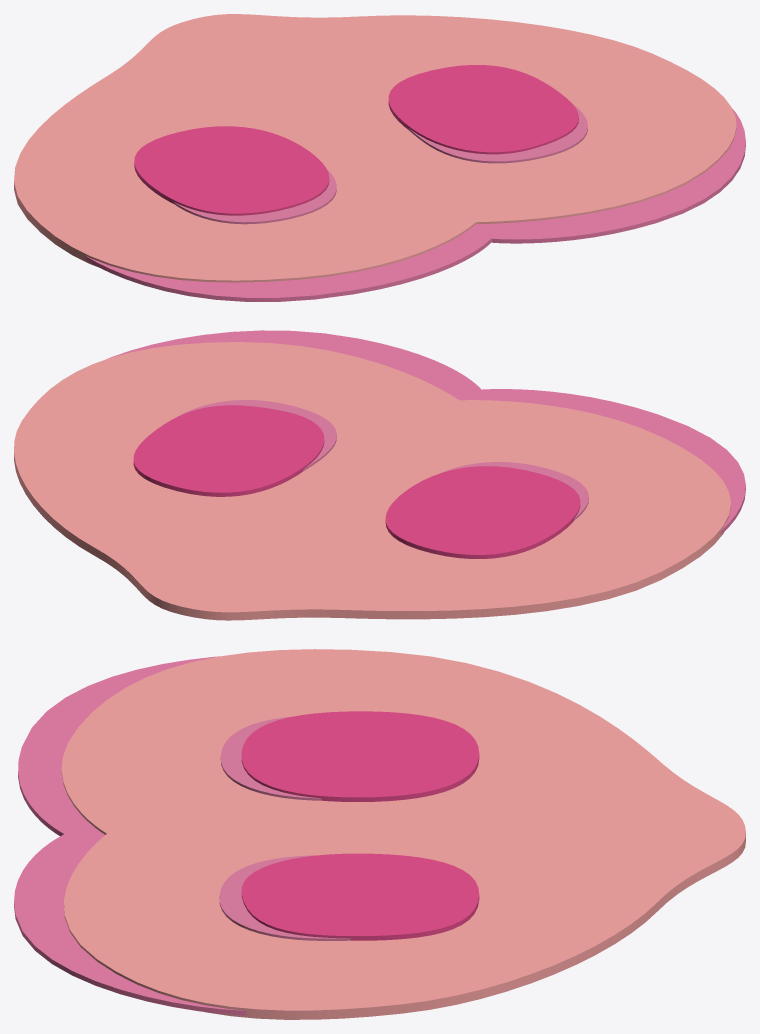
Rendered from emoji_u1f43d.glb.
3 renders of one model, top to bottom at view 1: azimuth 30°, elevation 25°; view 2: azimuth 150°, elevation 25°; view 3: azimuth 270°, elevation 25°, orthographic. The views are drawn at different scales.
Parts seen in each view (by area): view 1: emoji_u1f43d; view 2: emoji_u1f43d; view 3: emoji_u1f43d.
Boxes of the visible parts, x1,y1,x2,y2 form: emoji_u1f43d: (14, 14, 745, 301); emoji_u1f43d: (14, 330, 745, 620); emoji_u1f43d: (14, 649, 745, 1019).
Size of the model in its own units: 0.0333 by 0.0008 by 0.0285.
